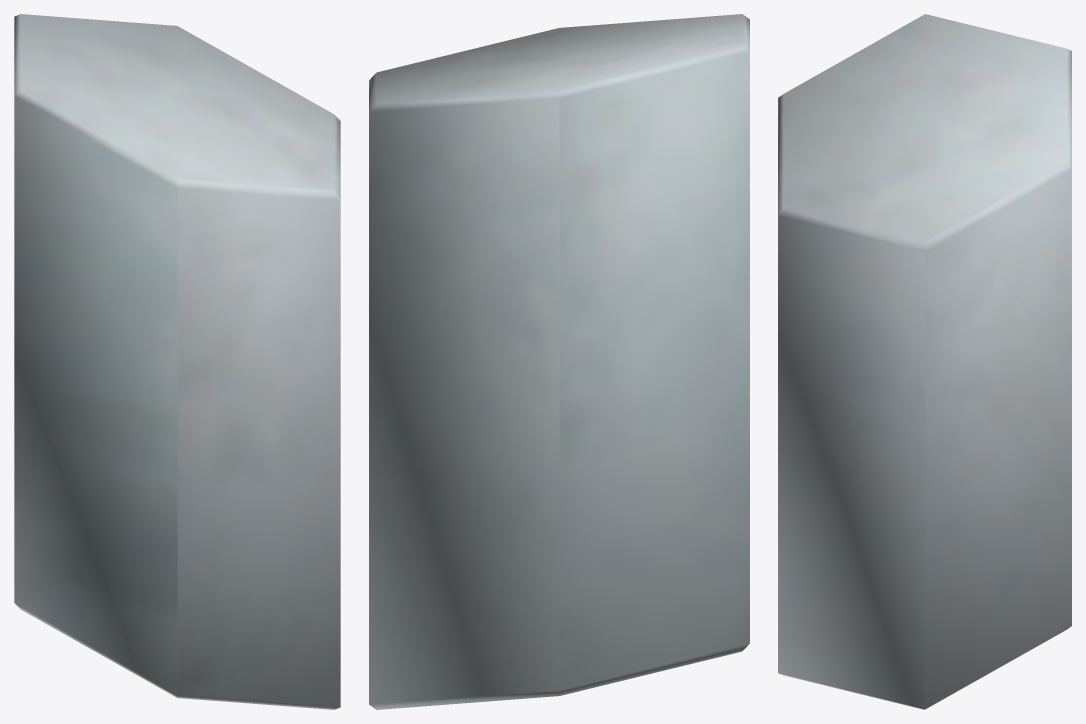
The model's file is P_RockHexic_Piece07.obj.
3 views of the same model, side by side, from view 1: azimuth 30°, elevation 25°; view 2: azimuth 150°, elevation 25°; view 3: azimuth 270°, elevation 25° (orthographic). The views are drawn at different scales.
Bounding box in the file's own units: 3.6 × 6.55 × 3.12.
